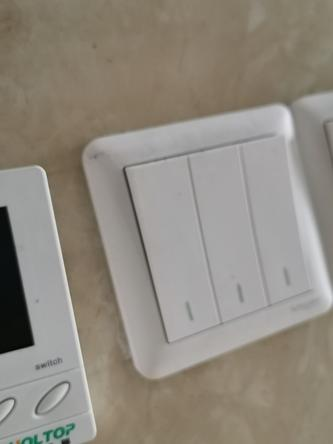switch: (115, 143, 227, 347), (184, 130, 268, 324), (238, 112, 314, 310)
